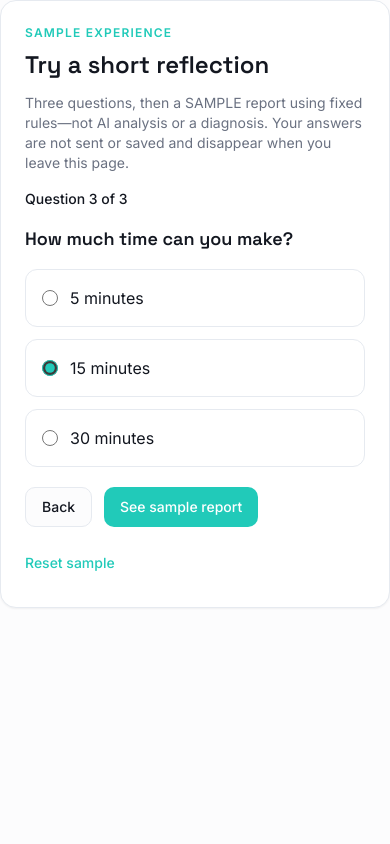
Scenario: InteractiveSample › retains answers on Back and updates the report when an answer is edited
Earlier steps of the test are not shown.
Later steps or results of the test are not shown.
Click the button "Back" at (59,507), box [25,487,92,527]
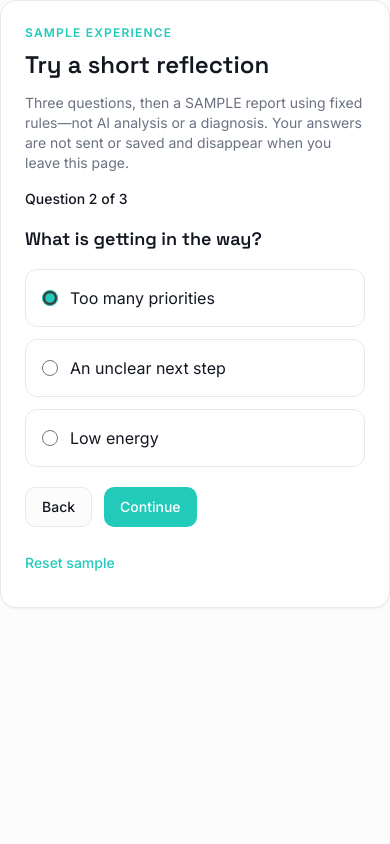
Now the radio button labelled "Too many priorities" is checked, box [42,290,58,306]
Click the button "Back" at (59,507), box [25,487,92,527]
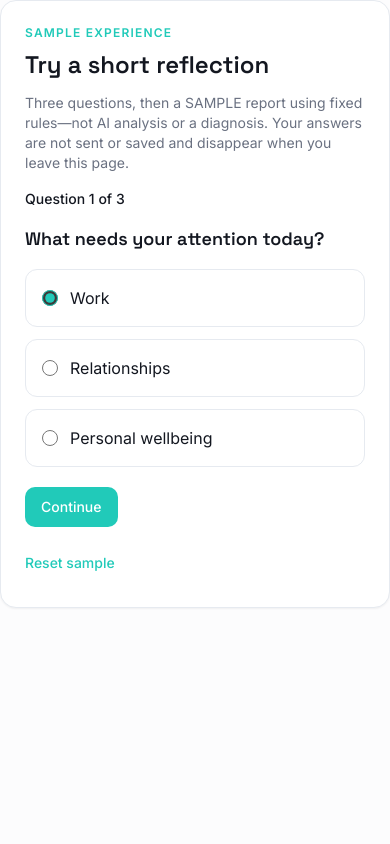
Expected: the radio button labelled "Work" is checked, [42,290,58,306]
Click the radio button labelled "Relationships" at (50,368), box [42,360,58,376]
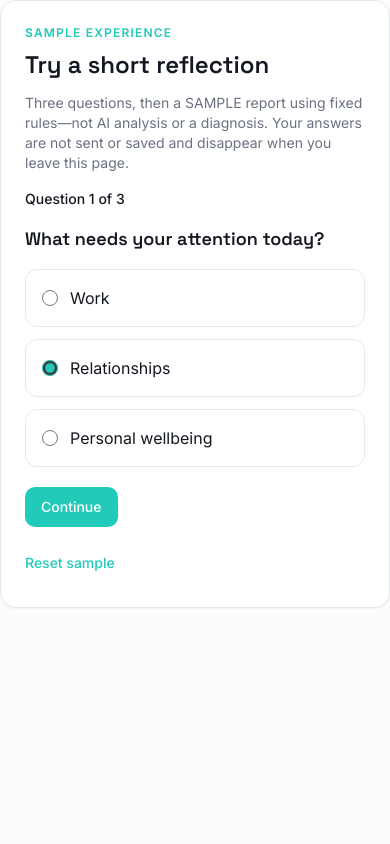
Click the button "Continue" at (71,507), box [25,487,118,527]
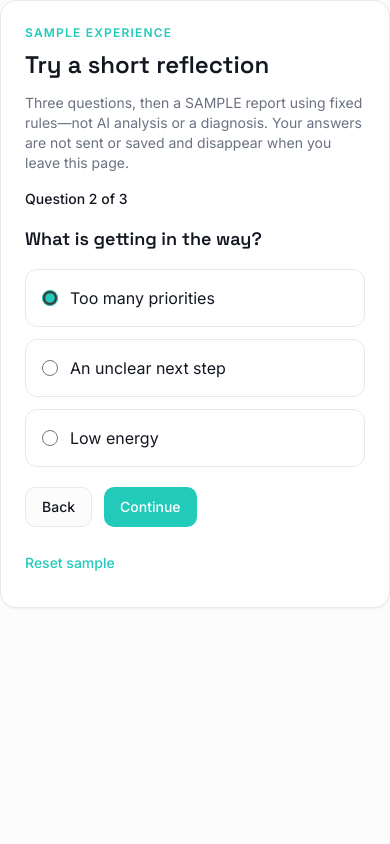
Click the button "Continue" at (150,507), box [104,487,197,527]
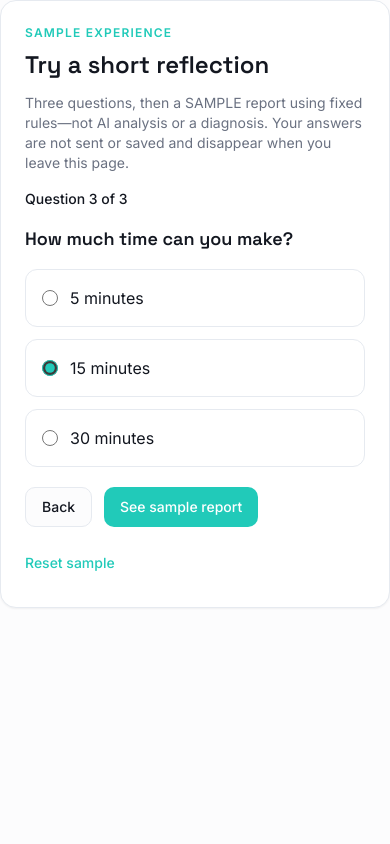
Now the radio button labelled "15 minutes" is checked, box [42,360,58,376]
Click the button "See sample report" at (181,507), box [104,487,258,527]
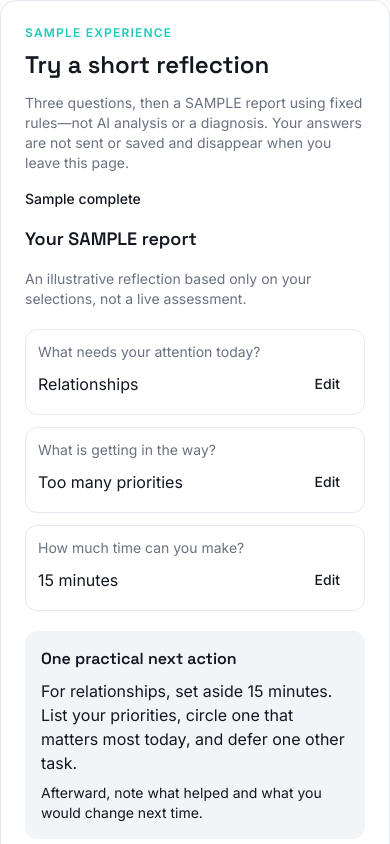
Now the text "For relationships, set aside 15 minutes" shows "circle one", box [41,705,345,773]
